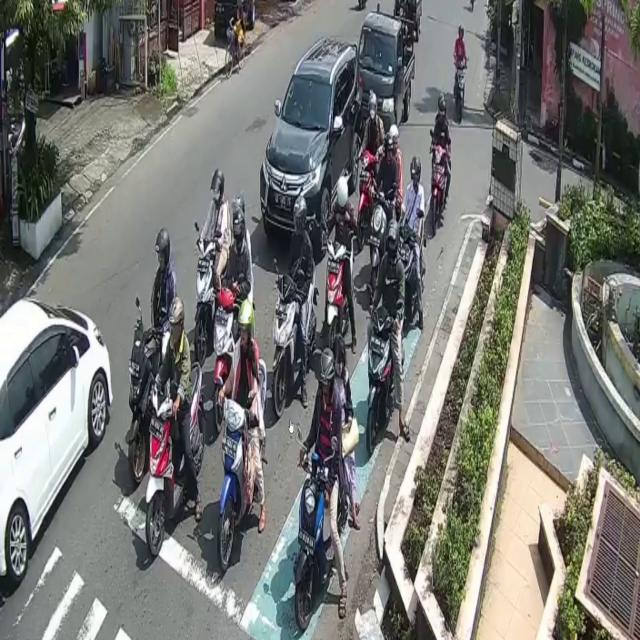bus: (147, 360, 203, 562), (220, 356, 268, 562), (272, 264, 316, 432), (293, 450, 331, 631), (128, 321, 162, 487), (365, 307, 394, 459), (194, 226, 216, 357), (327, 240, 352, 349), (429, 144, 446, 227), (455, 56, 466, 122)
motorcycle: (0, 298, 113, 582), (261, 38, 363, 250), (356, 11, 414, 138)
